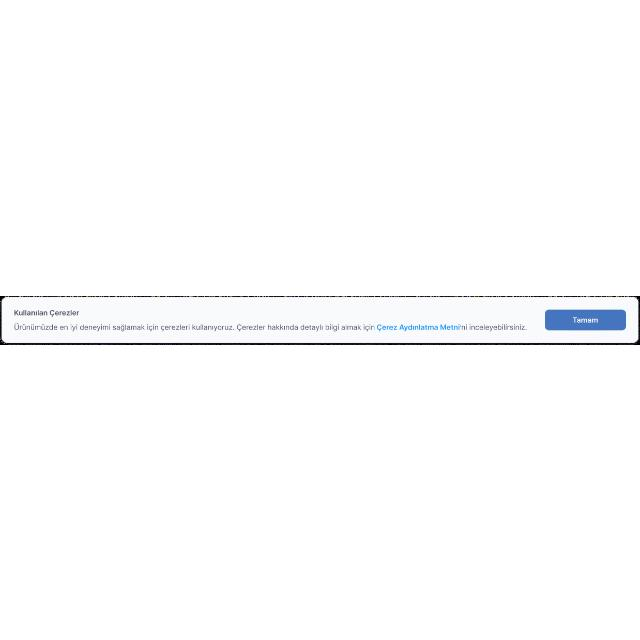QLabel: (13, 322, 375, 332), (13, 306, 83, 318), (376, 323, 459, 331), (461, 322, 527, 331), (570, 314, 600, 324)
VBtn: (544, 308, 628, 329)
VCard: (1, 298, 637, 340)
